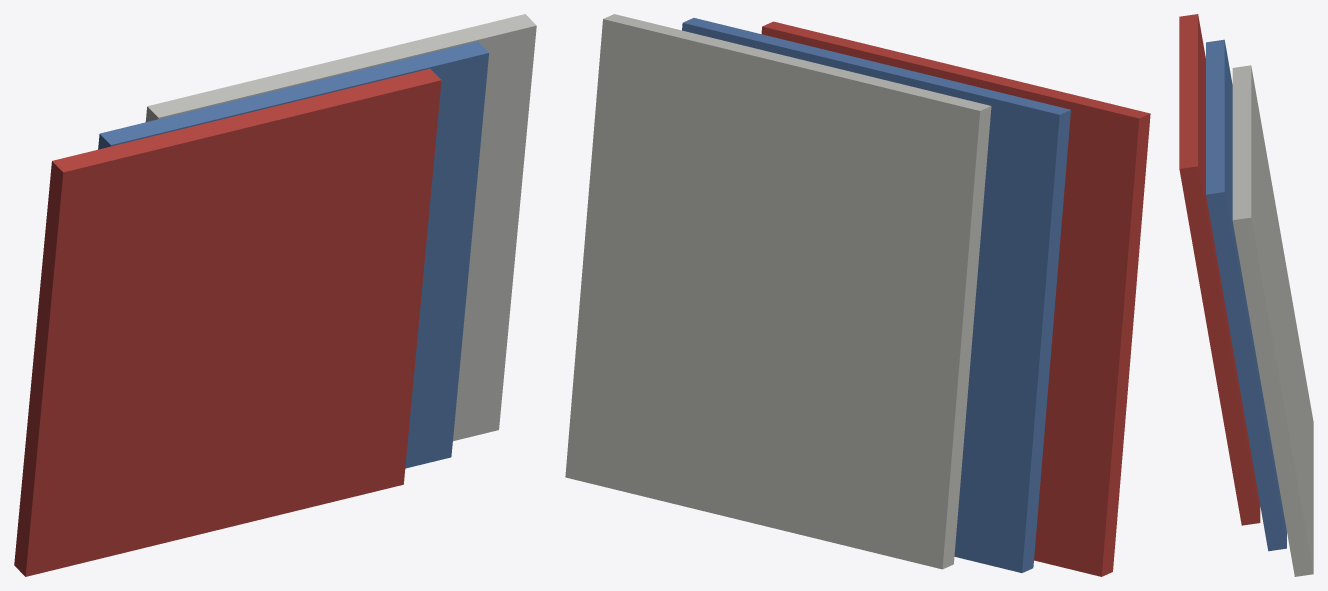
Rendered from spare_doors.glb.
3 views of the same model, side by side, from view 1: azimuth 30°, elevation 25°; view 2: azimuth 150°, elevation 25°; view 3: azimuth 270°, elevation 25° (orthographic). The views are drawn at different scales.
Visible parts, largest first — view 1: spare_doors; view 2: spare_doors; view 3: spare_doors.
Part boxes in pixels (box(x1,y1,x2,y2)): spare_doors: box(14, 14, 536, 576); spare_doors: box(565, 14, 1150, 576); spare_doors: box(1179, 14, 1313, 576).
Bounding box in the file's own units: 1.27 × 1.04 × 0.3536.
